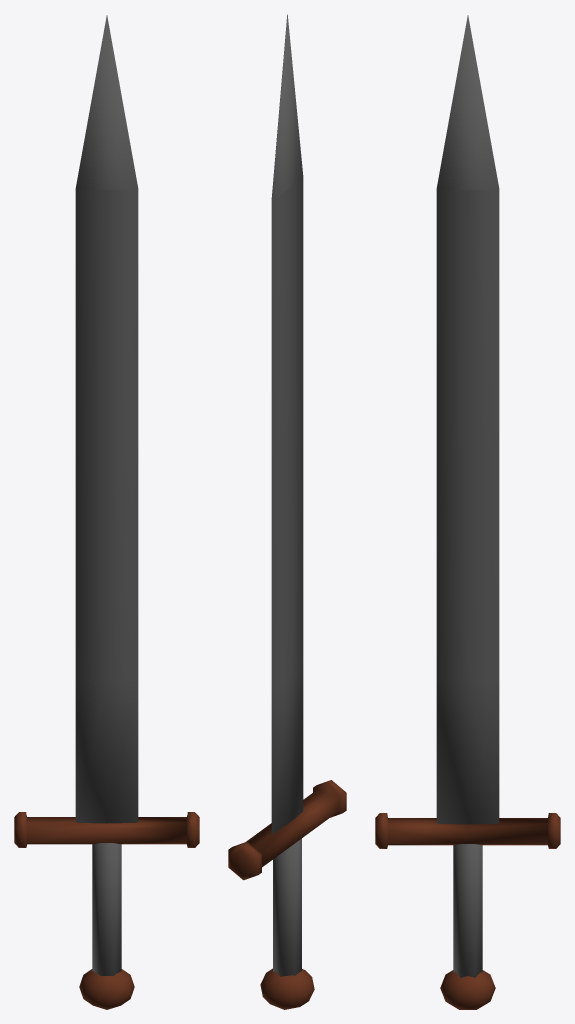
File: KnightSword.fbx
3 renders of one model, left to right at view 1: azimuth 90°, elevation 25°; view 2: azimuth 150°, elevation 25°; view 3: azimuth 270°, elevation 25°, orthographic.
Parts seen in each view (by area): view 1: Cylinder; view 2: Cylinder; view 3: Cylinder.
Part boxes in pixels (left/top/right/bottom): Cylinder: left=14, top=15, right=199, bottom=1009; Cylinder: left=228, top=14, right=346, bottom=1009; Cylinder: left=375, top=15, right=560, bottom=1009.
Size of the model in its own units: 202 by 4189 by 709.
